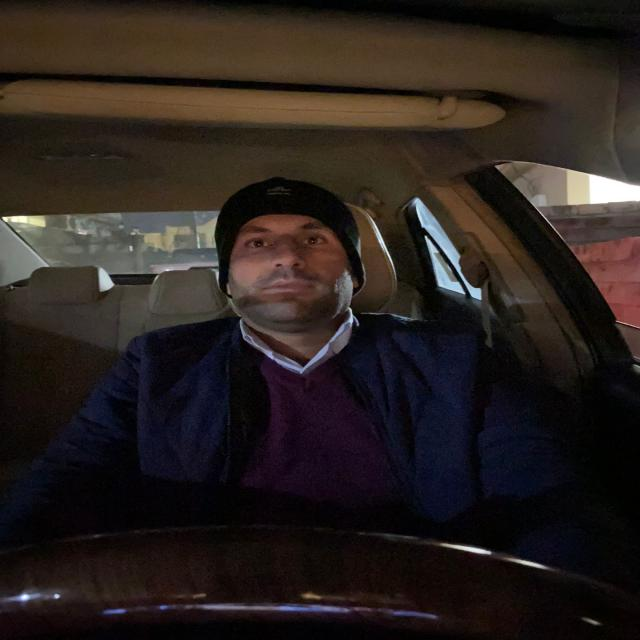person: (208, 175, 375, 338)
